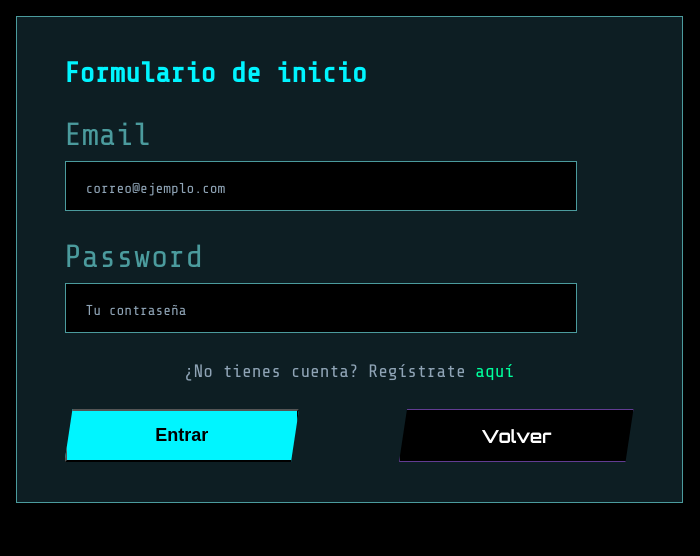
LoginForm › muestra error de email vacío al intentar enviar
This screenshot has width=700, height=556.
Step 1. Click the button "Entrar" → click(182, 436), box [64,409,299,462]
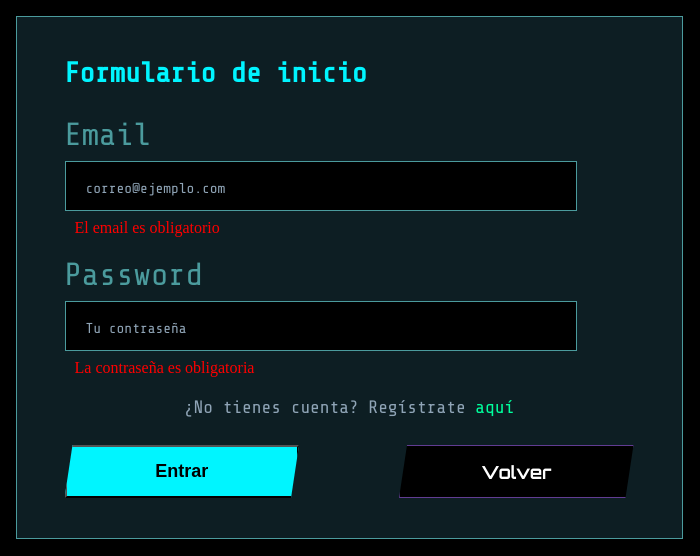
expect the text "El email es obligatorio" is shown: met, box [74,219,220,236]
